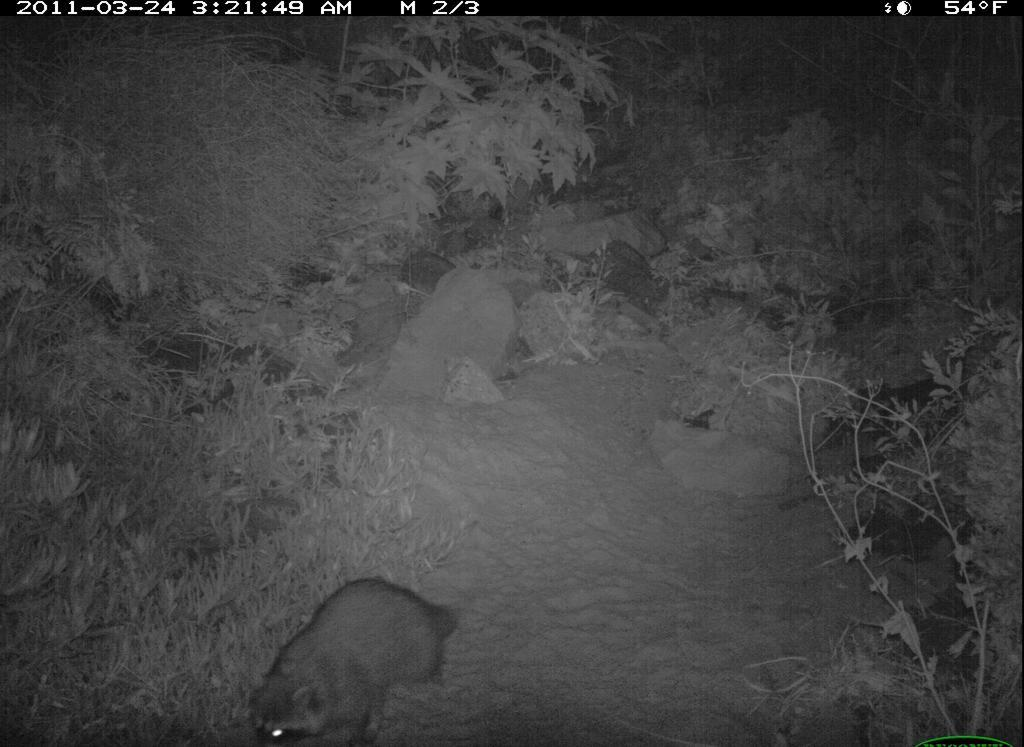raccoon: (233, 559, 465, 745)
